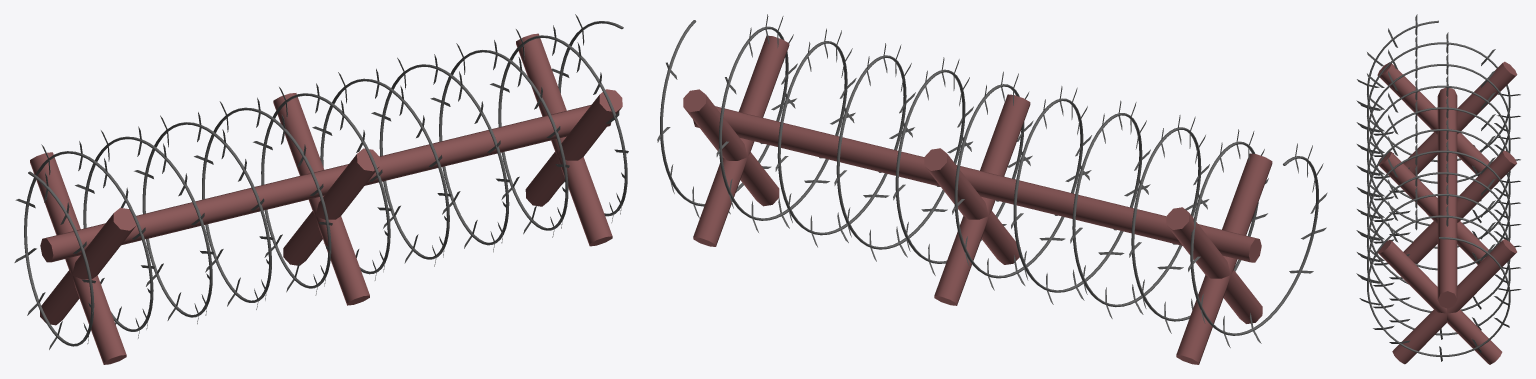
File: wire.fbx
3 views of the same model, side by side, from view 1: azimuth 30°, elevation 25°; view 2: azimuth 150°, elevation 25°; view 3: azimuth 270°, elevation 25° (orthographic). The views are drawn at different scales.
Parts seen in each view (by area): view 1: polySurface44; view 2: polySurface44; view 3: polySurface44.
Part boxes in pixels (x1,y1,x2,y2): polySurface44: (14,14,628,364); polySurface44: (657,14,1327,364); polySurface44: (1356,14,1521,364).
Bounding box in the file's own units: 52.51 × 17.25 × 16.84.
